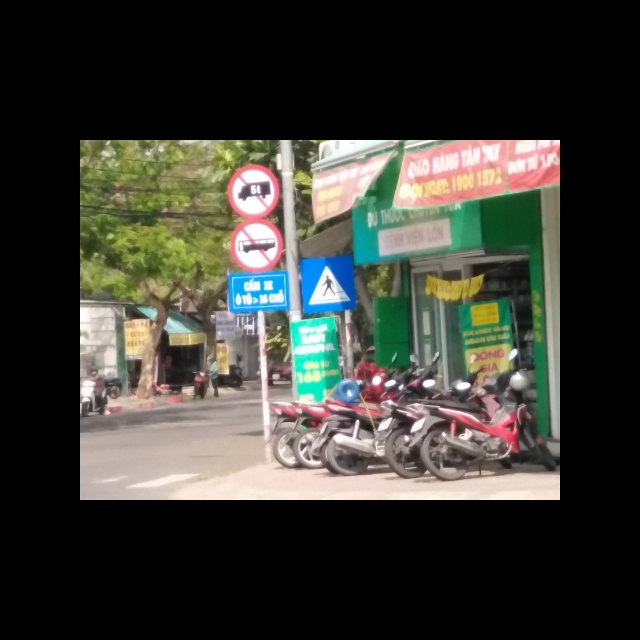Cấm xe tải: (227, 165, 281, 218)
Cấm xe xe khách: (230, 217, 283, 273)
Đường dành cho người đi bộ: (300, 257, 356, 313)
